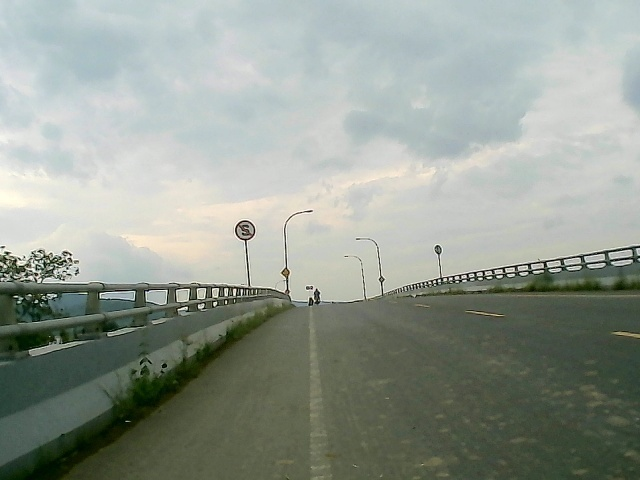Dilarang berhenti: (234, 219, 256, 244)
